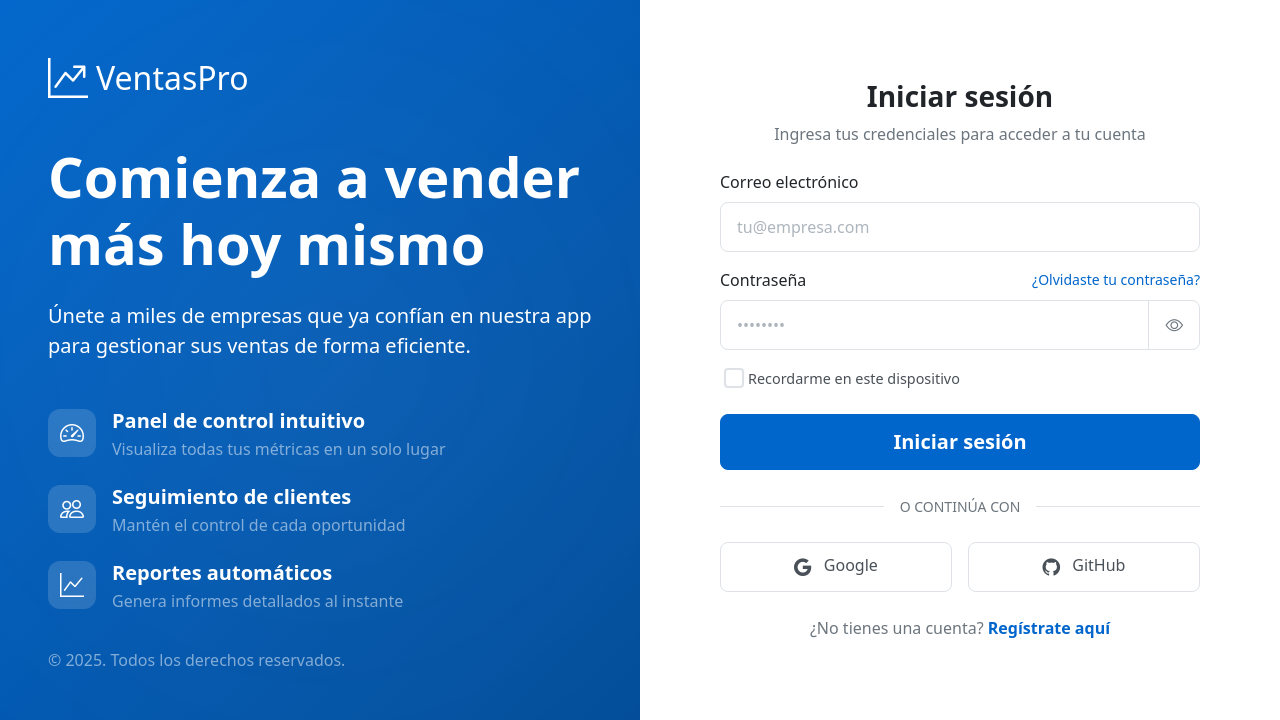
Test: Login - E2E › Validación de Formulario › debe mostrar errores cuando campos están vacíos
What coordinates should you click on to do the following:
click the submit button
I would click on:
 (960, 442)
Its box is [720,414,1200,470].
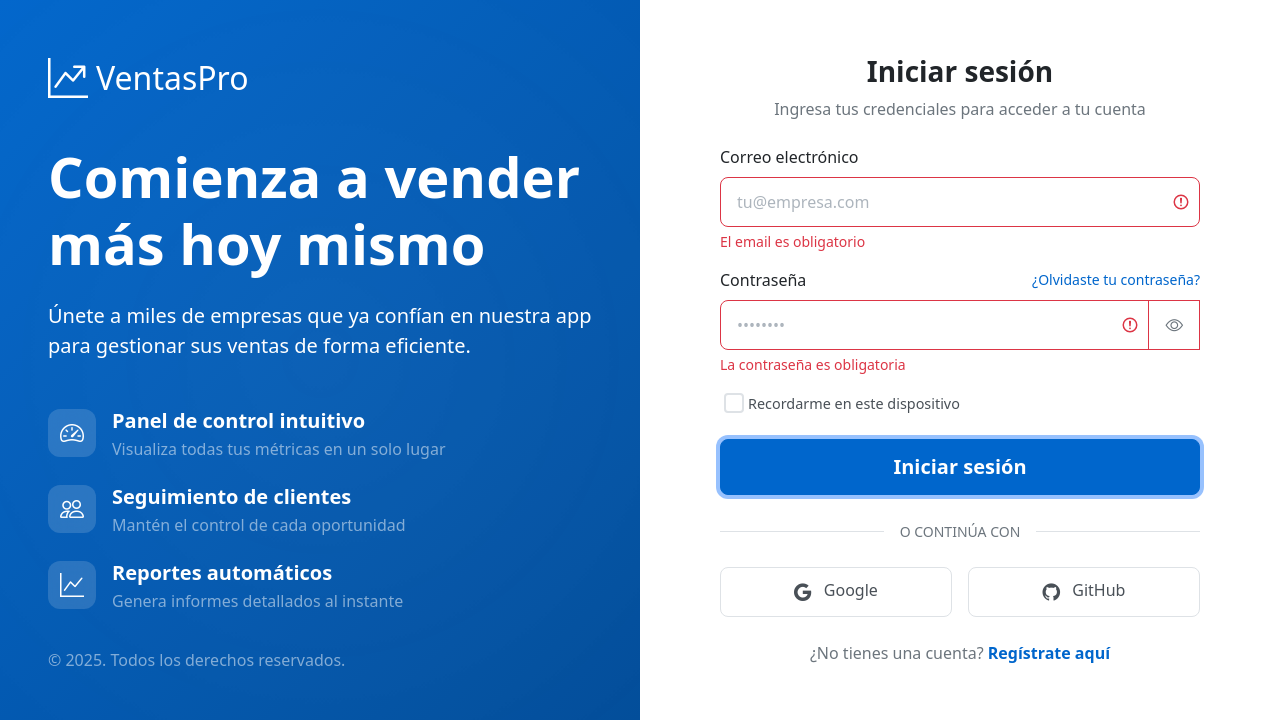
Check: the text "El email es obligatorio" is shown, box [720,232,865,251]
Check: the text "La contraseña es obligatoria" is shown, box [720,355,906,374]
